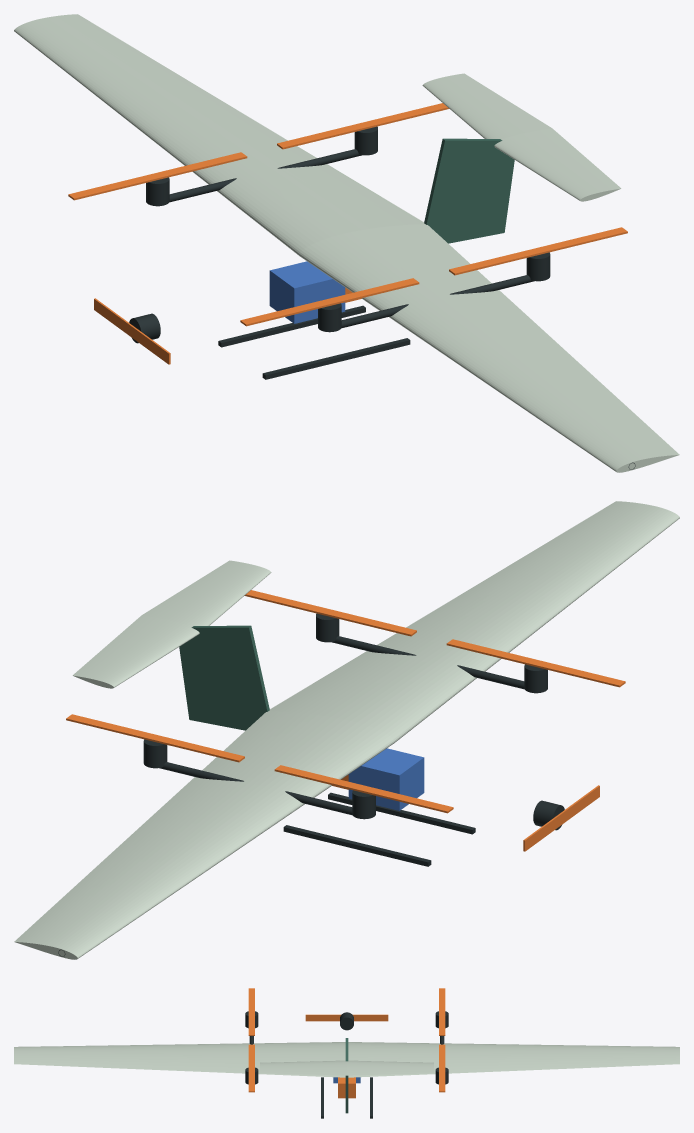
The model's file is 09-internal.glb.
3 renders of one model, top to bottom at view 1: azimuth 30°, elevation 25°; view 2: azimuth 150°, elevation 25°; view 3: azimuth 270°, elevation 25°, orthographic. The views are drawn at different scales.
Parts seen in each view (by area): view 1: wing-1, wing1, fin, tail-1, tail1, payload, prop_-1_210.0, prop_-1_700.0, prop_1_210.0, prop_1_700.0, skid-1, boom-1 (+3 smaller); view 2: wing1, wing-1, fin, tail1, tail-1, payload, prop_-1_210.0, prop_1_210.0, prop_1_700.0, prop_-1_700.0, skid1, boom1 (+3 smaller); view 3: wing-1, wing1, tail-1, tail1, cruise_prop, battery, prop_-1_700.0, prop_1_700.0, prop_-1_210.0, prop_1_210.0, fin, cruise_motor.
Boxes of the visible parts, box(x1,y1,x2,y2) form: wing-1: box(299, 224, 679, 472); wing1: box(14, 14, 424, 255); fin: box(424, 138, 514, 243); tail-1: box(494, 128, 621, 201); tail1: box(422, 73, 551, 139); payload: box(269, 261, 345, 323); prop_-1_210.0: box(240, 278, 419, 326); prop_-1_700.0: box(449, 227, 627, 275); prop_1_210.0: box(68, 152, 247, 200); prop_1_700.0: box(277, 103, 449, 149); skid-1: box(262, 338, 410, 379); boom-1: box(341, 275, 534, 328); wing1: box(14, 711, 394, 959); wing-1: box(269, 501, 679, 742); fin: box(179, 625, 269, 730); tail1: box(72, 615, 199, 688); tail-1: box(142, 560, 271, 626); payload: box(348, 748, 424, 810); prop_-1_210.0: box(446, 639, 625, 687); prop_1_210.0: box(274, 765, 453, 813); prop_1_700.0: box(66, 714, 244, 762); prop_-1_700.0: box(244, 590, 416, 636); skid1: box(283, 825, 431, 866); boom1: box(159, 762, 352, 815); wing-1: box(14, 1042, 345, 1077); wing1: box(348, 1042, 679, 1077); tail-1: box(260, 1060, 346, 1075); tail1: box(347, 1060, 433, 1075); cruise_prop: box(305, 1014, 388, 1021); battery: box(338, 1077, 355, 1098); prop_-1_700.0: box(248, 1044, 254, 1092); prop_1_700.0: box(439, 1044, 445, 1092); prop_-1_210.0: box(248, 988, 254, 1035); prop_1_210.0: box(439, 988, 445, 1035); fin: box(345, 1038, 348, 1113); cruise_motor: box(340, 1012, 353, 1030).
Size of the model in its own units: 989 by 390 by 2450.
